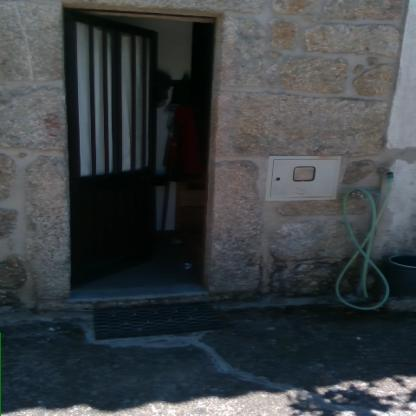semi: (56, 2, 232, 302)
